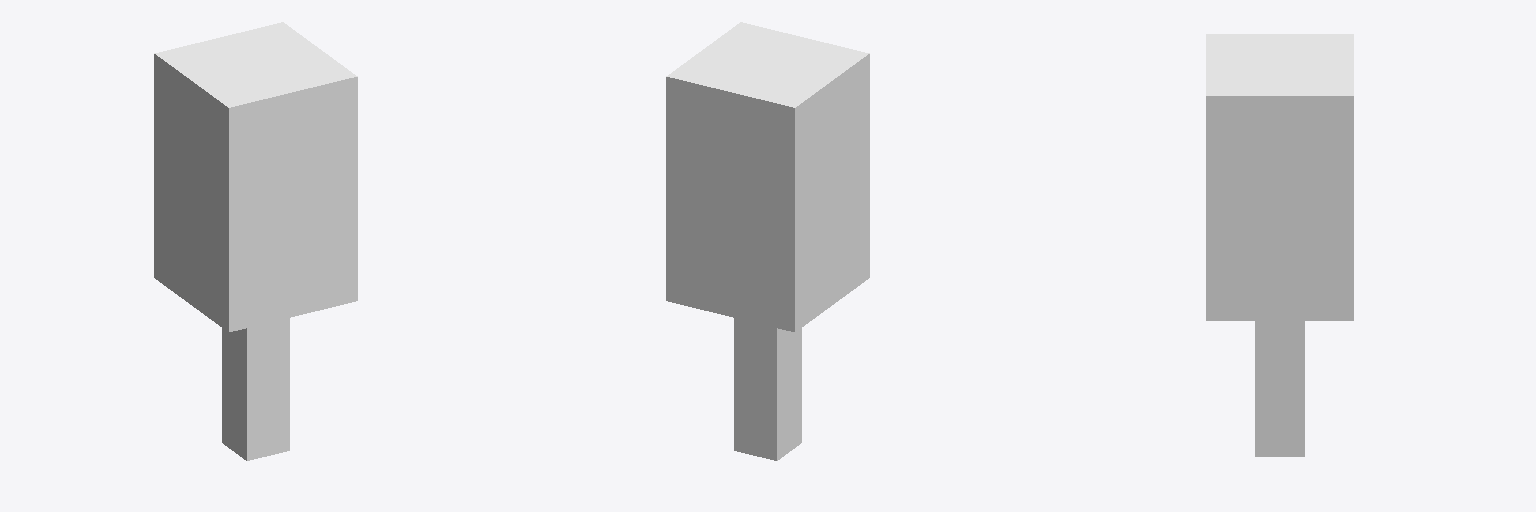
File: tree_tall.obj
3 views of the same model, side by side, from view 1: azimuth 30°, elevation 25°; view 2: azimuth 150°, elevation 25°; view 3: azimuth 270°, elevation 25° (orthographic).
Parts seen in each view (by area): view 1: tree_tall; view 2: tree_tall; view 3: tree_tall.
Part boxes in pixels (x1,y1,x2,y2): tree_tall: (154,22,357,460); tree_tall: (666,22,869,460); tree_tall: (1206,34,1353,456).
Bounding box in the file's own units: 6 × 17 × 6.